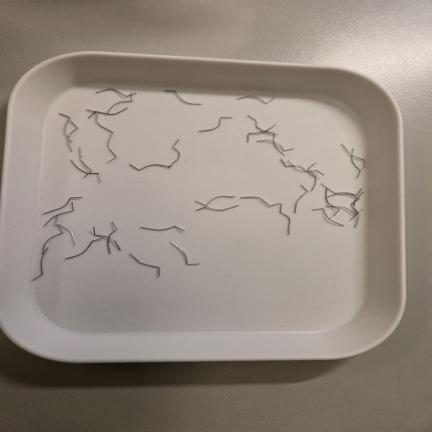probe: (130, 253, 160, 277), (171, 241, 199, 265), (165, 90, 202, 105), (199, 116, 232, 132), (236, 95, 274, 104), (140, 226, 184, 231)
